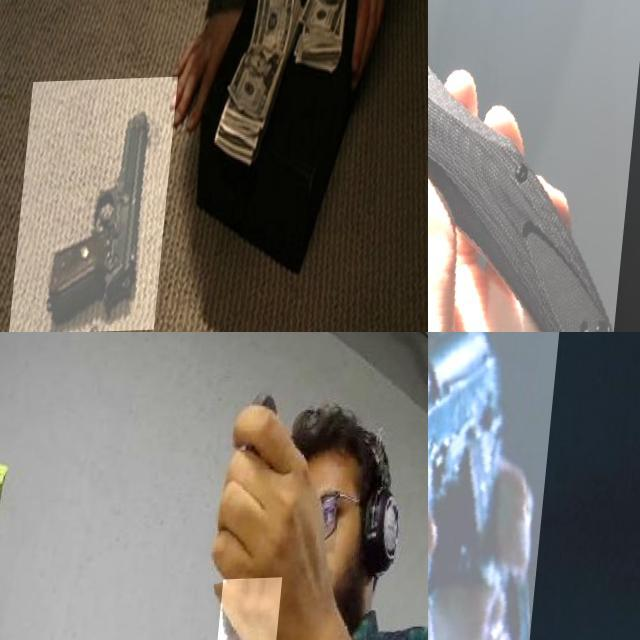-: (428, 0, 640, 332), (208, 580, 289, 640)
gun-knife-thesis - v11 Yolov5 augmented: (428, 332, 570, 640), (21, 78, 185, 332)
